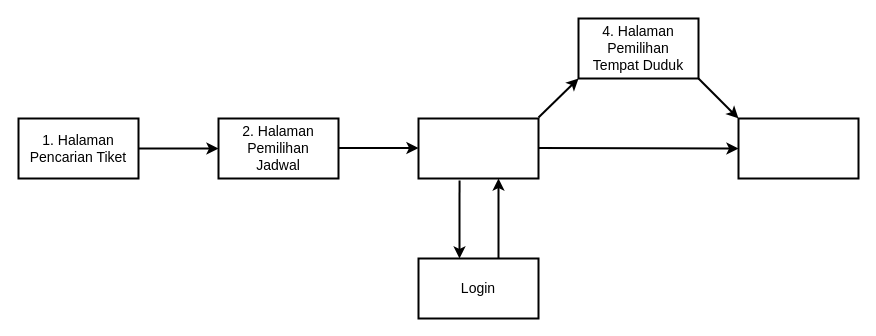
Image size: 876x336. Some labels were removed from this diagram. The centre of each missing label's shape, as x and y in pixels:
3. Halaman Pengisian Data Penumpang: the point at 478,148
5. Halaman Konfirmasi dan Pembayaran: the point at 798,148
